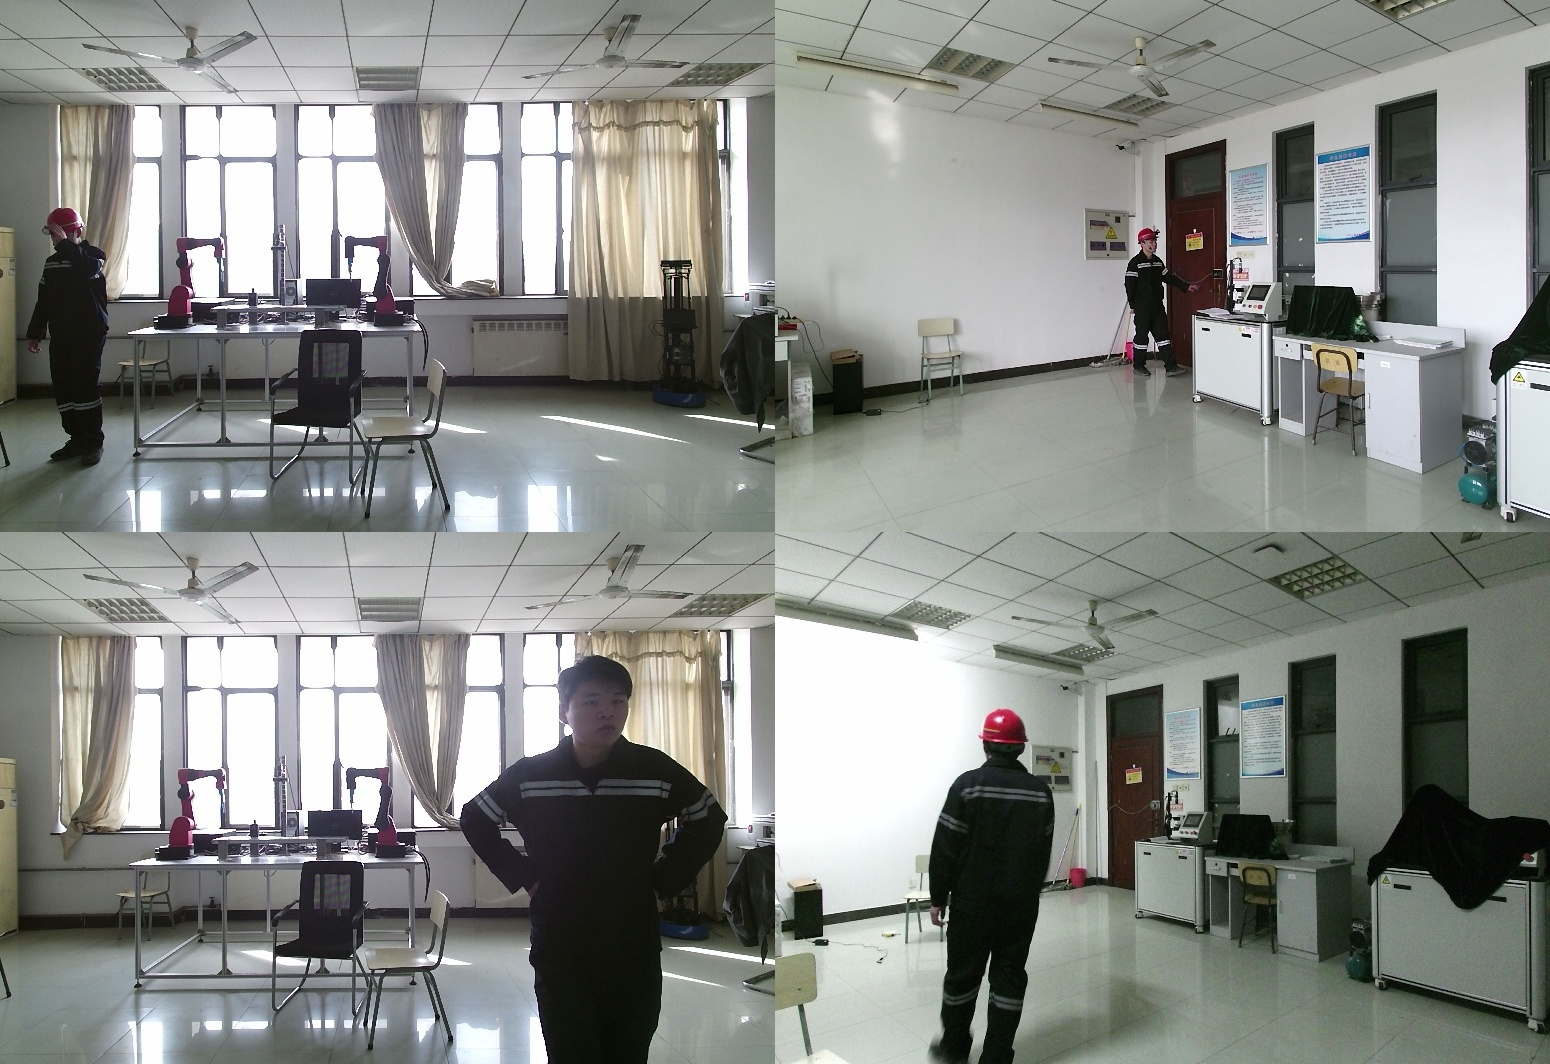person: (472, 660, 737, 1064), (928, 706, 1070, 1064), (27, 211, 122, 465), (1124, 228, 1180, 380)
